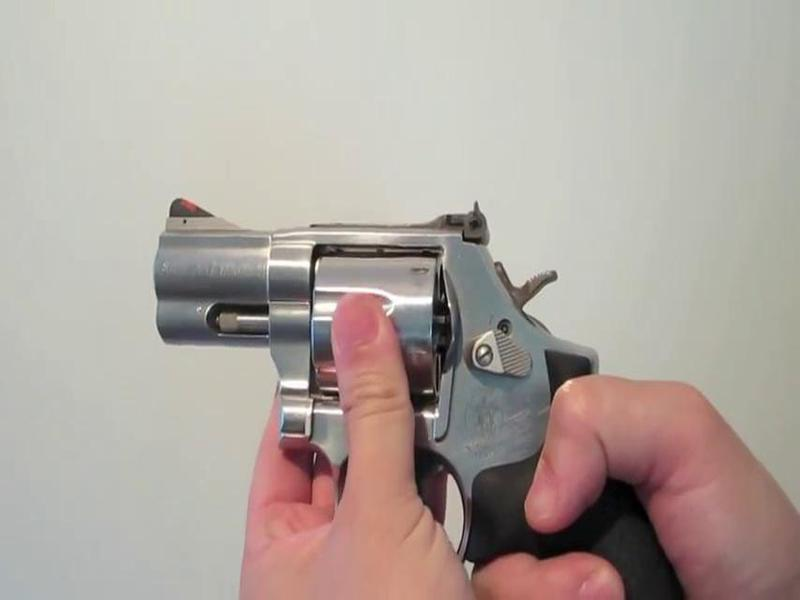Revolver: (143, 157, 685, 600)
